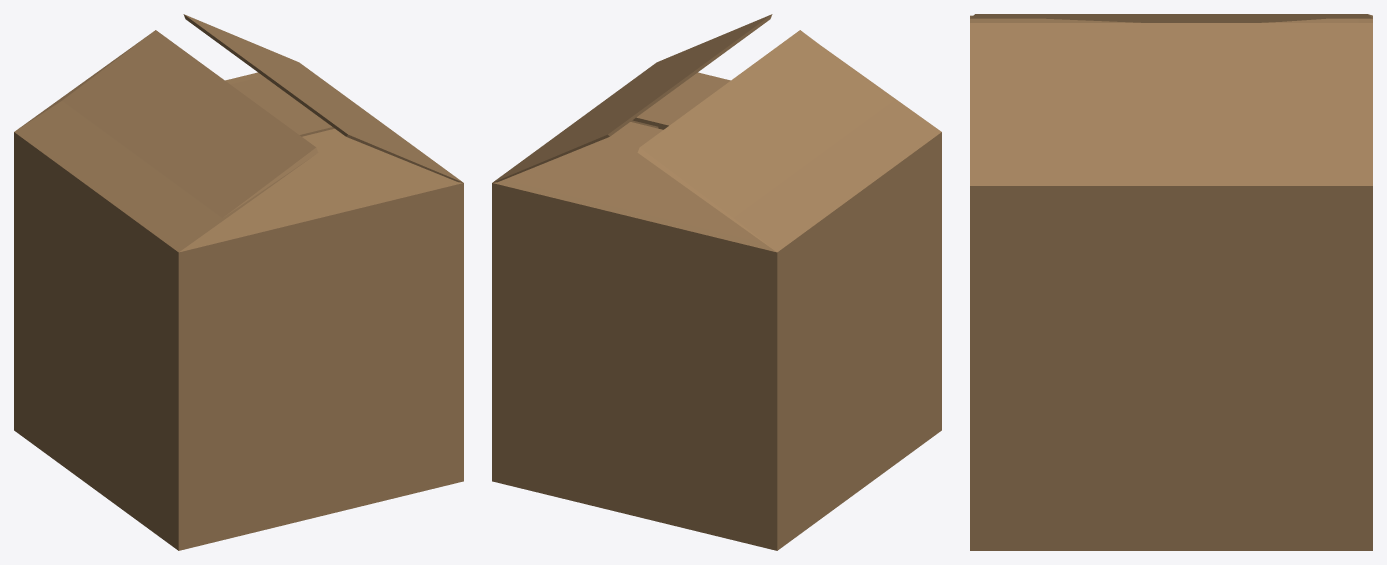
Rendered from BoxHalfOpen.fbx.
3 renders of one model, left to right at view 1: azimuth 30°, elevation 25°; view 2: azimuth 150°, elevation 25°; view 3: azimuth 270°, elevation 25°, orthographic. The views are drawn at different scales.
Parts seen in each view (by area): view 1: BoxHalfOpen; view 2: BoxHalfOpen; view 3: BoxHalfOpen.
Part boxes in pixels (<box>): BoxHalfOpen: <box>14,14,463,550</box>; BoxHalfOpen: <box>492,14,941,550</box>; BoxHalfOpen: <box>970,14,1372,550</box>.
Bounding box in the file's own units: 200 × 251 × 200.
